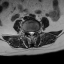CCS_normal: (30, 29, 32, 38)
LFS_stenosis: (34, 29, 36, 35)
LLS_normal: (32, 30, 34, 36)
RFS_severe_stenosis: (27, 30, 29, 35)
RLS_normal: (29, 30, 30, 35)
